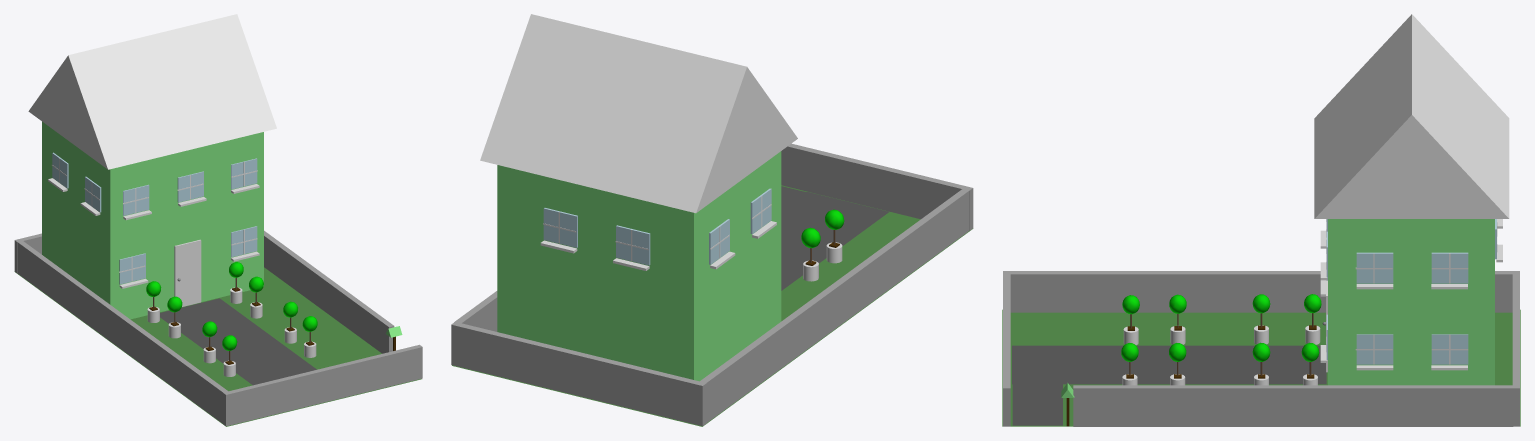
File: house 1 game 3.fbx
The picture shows the model from 3 angles, left to right: view 1: azimuth 30°, elevation 25°; view 2: azimuth 150°, elevation 25°; view 3: azimuth 270°, elevation 25°; orthographic projection. The views are drawn at different scales.
Visible parts, largest first — view 1: pasted__pCube4, pasted__pasted__right_roof, pasted__pasted__ground, pasted__pasted__back_wall, pasted__pasted__side_wall, pasted__pasted__road, pasted__pasted__pasted__back_wall, pasted__pasted__pasted__pasted__pasted__pCube1 (×3), pasted__pasted__door, pasted__pasted__pasted__pasted__pCube1 (×2), pasted__pasted__pasted__pCube1, pasted__pasted__pasted__pasted__pasted__pasted__pCube1 (+1 smaller); view 2: pasted__pCube4, pasted__pasted__right_roof, pasted__pasted__back_wall, pasted__pasted__side_wall1, pasted__pasted__side_wall, pasted__pasted__road, pasted__pasted__ground, pasted__pasted__pasted__pasted__pasted__pasted__pCube1 (×2), pasted__pasted__pasted__pasted__pasted__pasted__pasted__pCub, pasted__pasted__pasted__back_wall, pasted__pasted__pasted__pasted__pasted__pCube1; view 3: pasted__pasted__right_roof, pasted__pCube4, pasted__pasted__pasted__back_wall, pasted__pasted__road (×2), pasted__pasted__back_wall, pasted__pasted__ground, pasted__pasted__pasted__pasted__pCube1 (×2), pasted__pasted__pasted__pasted__pasted__pCube1 (×2), pasted__pasted__side_wall, pasted__pasted__side_wall1.
Part boxes in pixels (left/top/right/bottom): pasted__pCube4: left=42, top=121, right=263, bottom=319; pasted__pasted__right_roof: left=28, top=14, right=276, bottom=169; pasted__pasted__ground: left=14, top=267, right=421, bottom=426; pasted__pasted__back_wall: left=18, top=241, right=227, bottom=423; pasted__pasted__side_wall: left=223, top=344, right=422, bottom=426; pasted__pasted__road: left=160, top=298, right=316, bottom=385; pasted__pasted__pasted__back_wall: left=264, top=230, right=394, bottom=353; pasted__pasted__pasted__pasted__pasted__pCube1 (×3): left=85, top=158, right=257, bottom=215; pasted__pasted__door: left=174, top=239, right=201, bottom=306; pasted__pasted__pasted__pasted__pCube1 (×2): left=177, top=171, right=257, bottom=257; pasted__pasted__pasted__pCube1: left=119, top=253, right=145, bottom=284; pasted__pasted__pasted__pasted__pasted__pasted__pCube1: left=52, top=152, right=68, bottom=188; pasted__pCube4: left=497, top=151, right=781, bottom=381; pasted__pasted__right_roof: left=480, top=14, right=797, bottom=213; pasted__pasted__back_wall: left=700, top=187, right=968, bottom=422; pasted__pasted__side_wall1: left=451, top=322, right=706, bottom=426; pasted__pasted__side_wall: left=781, top=143, right=973, bottom=230; pasted__pasted__road: left=781, top=192, right=888, bottom=290; pasted__pasted__ground: left=452, top=185, right=973, bottom=426; pasted__pasted__pasted__pasted__pasted__pasted__pCube1 (×2): left=616, top=219, right=729, bottom=265; pasted__pasted__pasted__pasted__pasted__pasted__pasted__pCub: left=543, top=208, right=577, bottom=247; pasted__pasted__pasted__back_wall: left=455, top=291, right=497, bottom=331; pasted__pasted__pasted__pasted__pasted__pCube1: left=750, top=188, right=771, bottom=234; pasted__pasted__right_roof: left=1314, top=14, right=1509, bottom=218; pasted__pCube4: left=1328, top=219, right=1494, bottom=385; pasted__pasted__pasted__back_wall: left=1073, top=385, right=1513, bottom=426; pasted__pasted__road (×2): left=1012, top=345, right=1326, bottom=425; pasted__pasted__back_wall: left=1010, top=271, right=1512, bottom=312; pasted__pasted__ground: left=1002, top=309, right=1520, bottom=426; pasted__pasted__pasted__pasted__pCube1 (×2): left=1356, top=252, right=1393, bottom=364; pasted__pasted__pasted__pasted__pasted__pCube1 (×2): left=1431, top=252, right=1468, bottom=364; pasted__pasted__side_wall: left=1003, top=271, right=1010, bottom=426; pasted__pasted__side_wall1: left=1512, top=271, right=1519, bottom=426.
Bounding box in the file's own units: 37.47 × 44.12 × 68.76.
